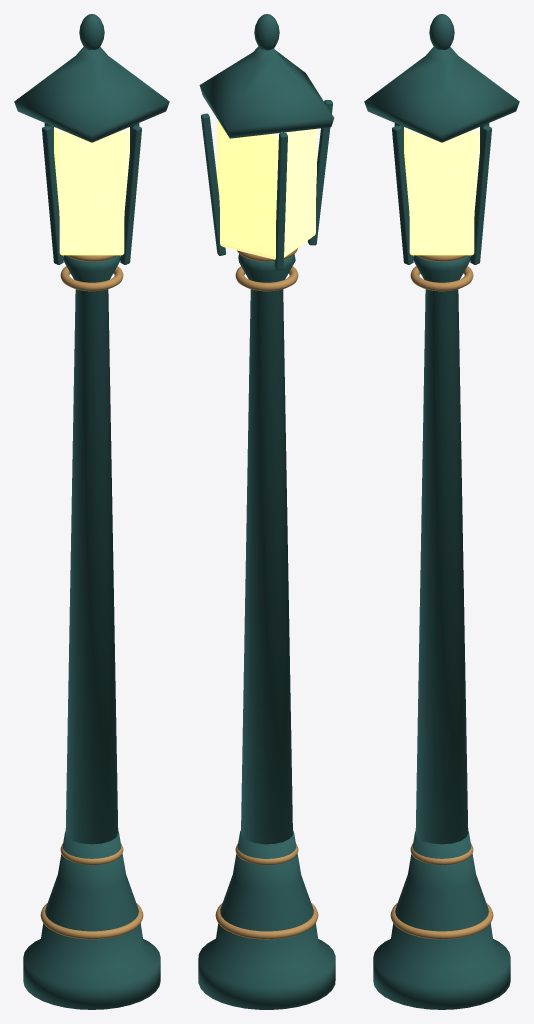
Rendered from lamp.glb.
The picture shows the model from 3 angles, left to right: view 1: azimuth 90°, elevation 25°; view 2: azimuth 150°, elevation 25°; view 3: azimuth 270°, elevation 25°; orthographic projection.
Parts seen in each view (by area): view 1: lamp; view 2: lamp; view 3: lamp.
Boxes of the visible parts, box(x1,y1,x2,y2) form: lamp: box(14, 14, 169, 1009); lamp: box(198, 14, 335, 1009); lamp: box(364, 14, 519, 1009).
Size of the model in its own units: 0.43 by 2.95 by 0.43.
